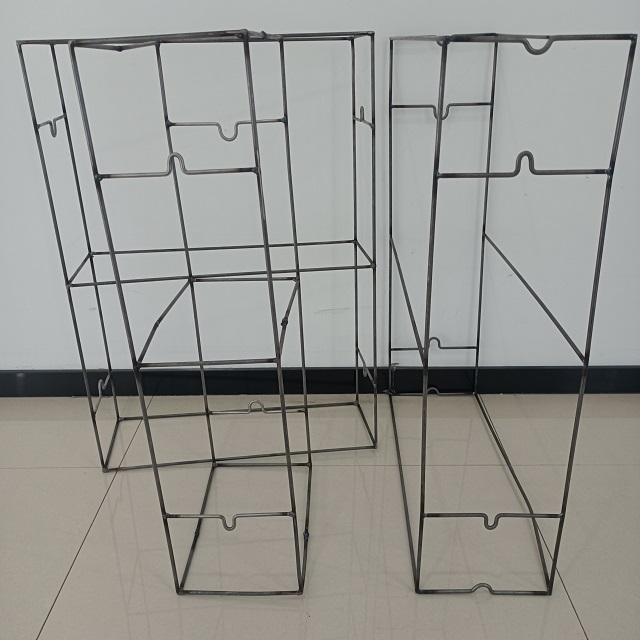curvedhole: (509, 146, 541, 190), (515, 31, 556, 58), (212, 506, 247, 537), (163, 149, 196, 180), (238, 392, 269, 424), (213, 118, 245, 147), (416, 327, 450, 353), (478, 508, 510, 533), (89, 370, 112, 403), (467, 578, 495, 603), (40, 112, 59, 141), (418, 382, 443, 399), (352, 102, 368, 127), (355, 360, 371, 385)
